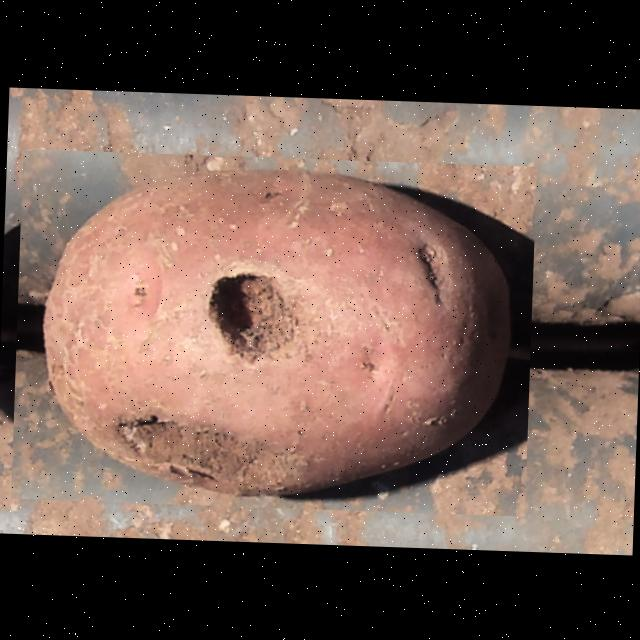Diseased-fungal potato: (9, 147, 536, 516)
